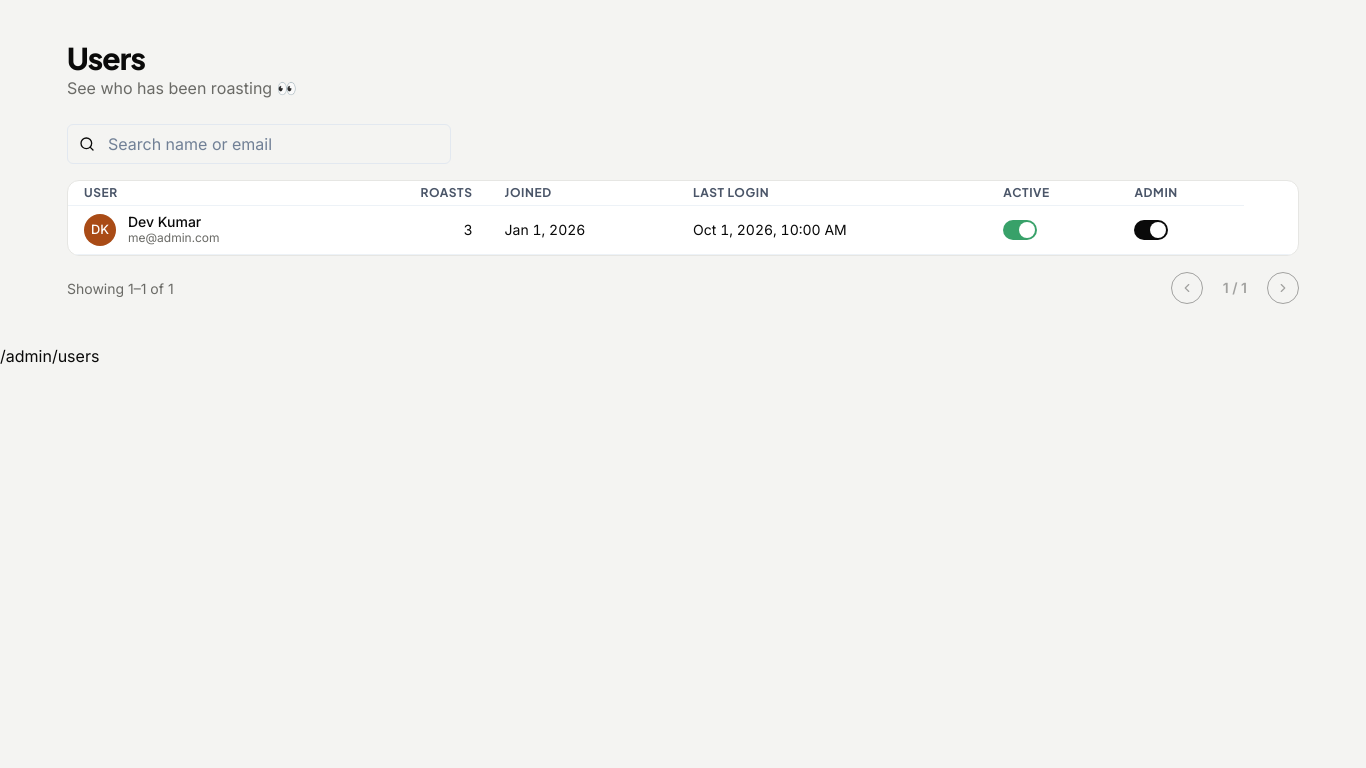
Test: AdminUsersPage › self-demotion 409 shows the backend detail
Step 1. Click the checkbox named "Remove admin from me@admin.com" → (1152, 230), box [1134,220,1168,240]
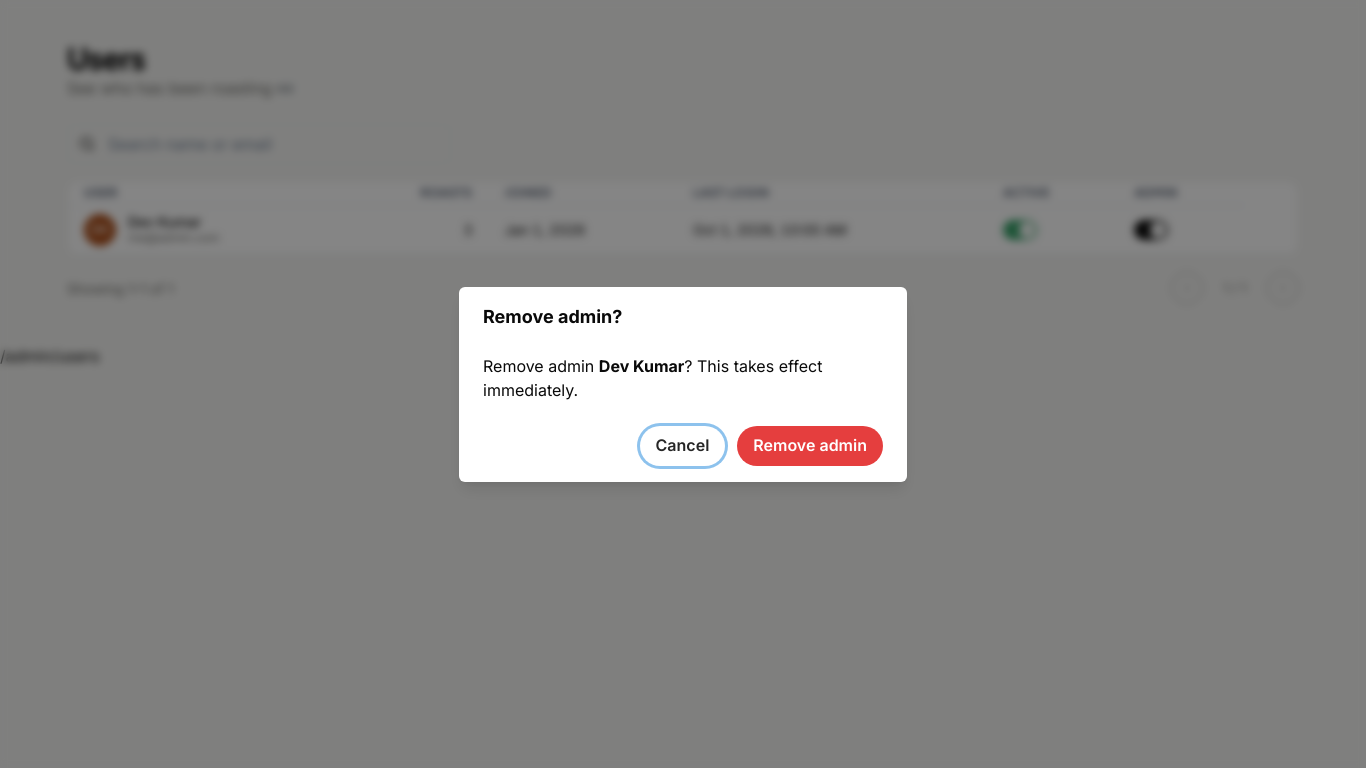
Result: the text "Remove admin?" is shown at [483,306,622,326]
Step 2. Click the button "Remove admin" → (810, 446), box [737,426,883,466]
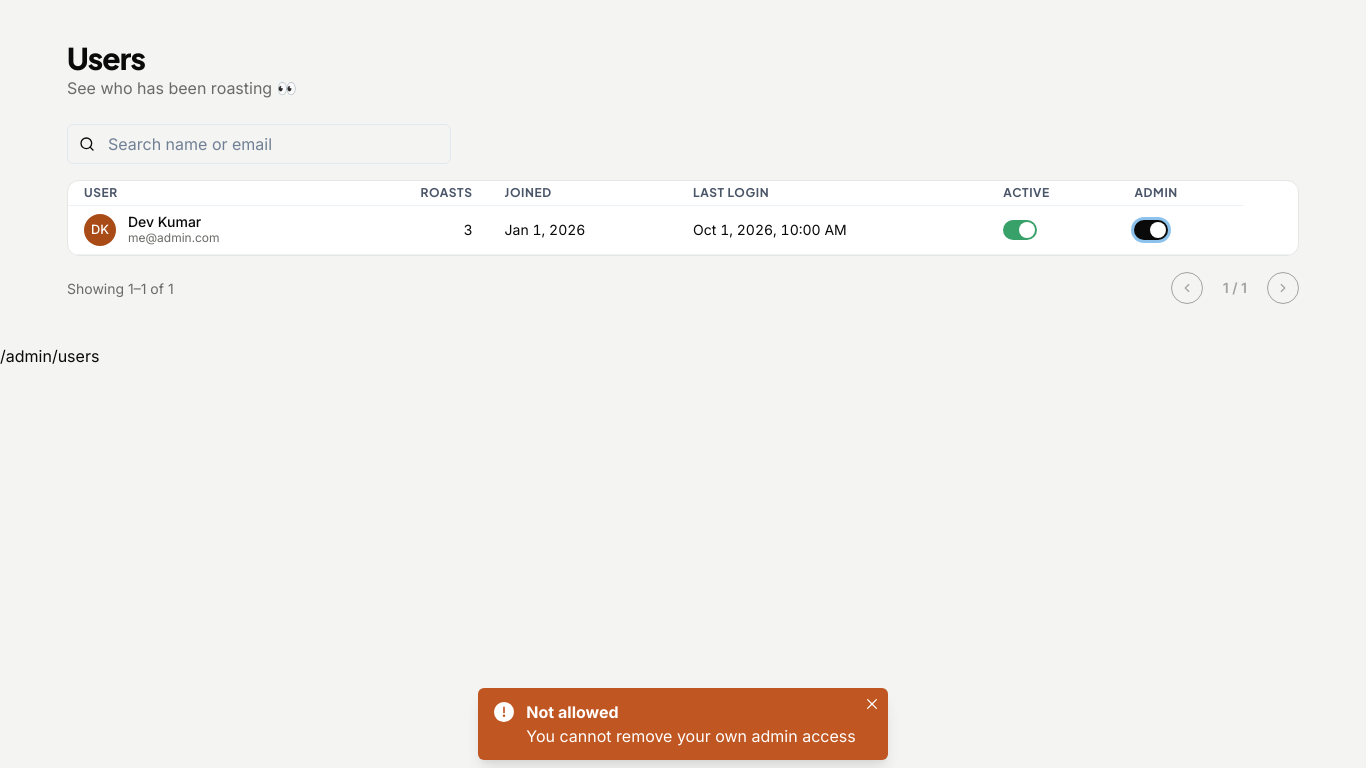
Expected: the checkbox named "Remove admin from me@admin.com" is checked, [1134,220,1168,240]
Result: the text "You cannot remove your own admin access" is shown at [526,724,856,748]
Result: the text "Not allowed" is shown at [526,702,618,722]
